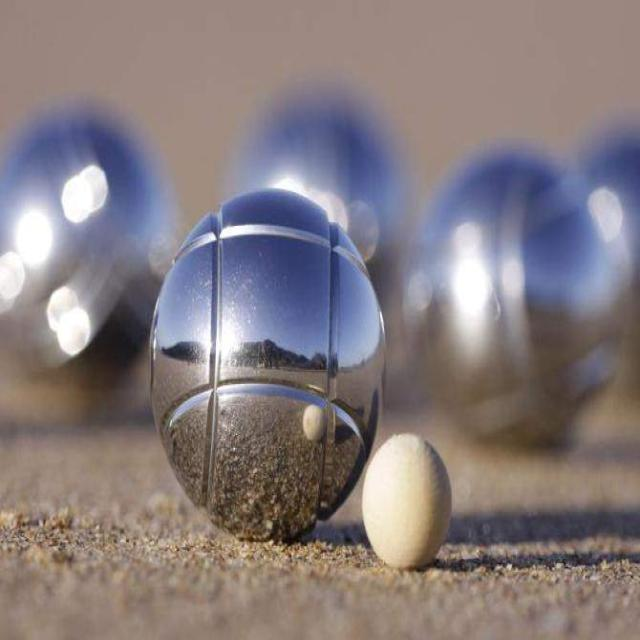hatball: (360, 435, 455, 574)
petanque: (144, 187, 388, 542)
